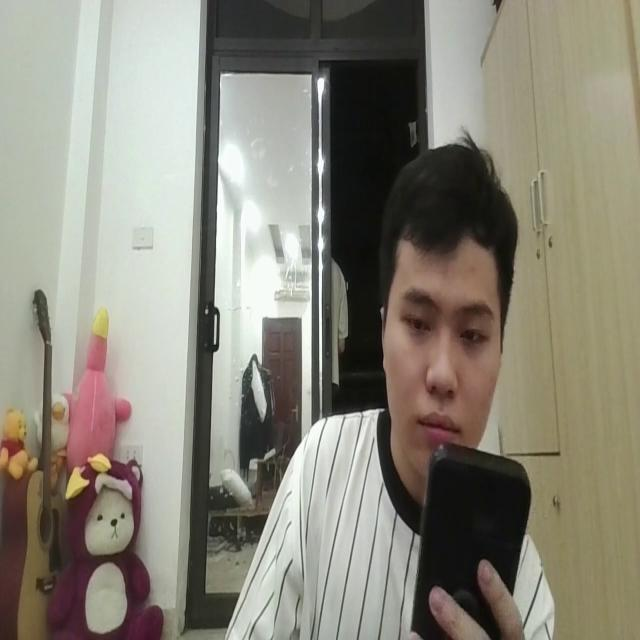phone: (411, 419, 532, 640)
student: (230, 123, 554, 640)
